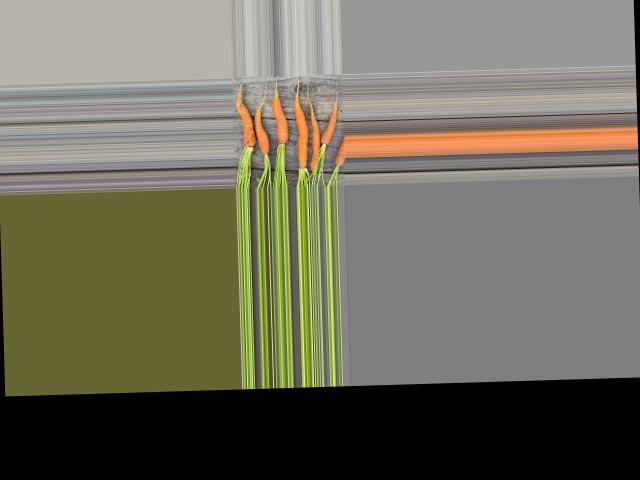carrot: (329, 144, 346, 176)
